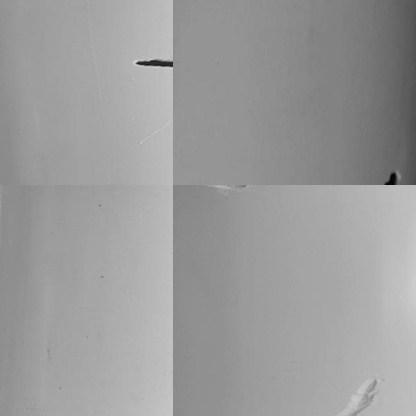fengxi: (137, 53, 173, 74)
kongdong: (379, 167, 406, 188)
sunshang: (339, 369, 377, 416)
